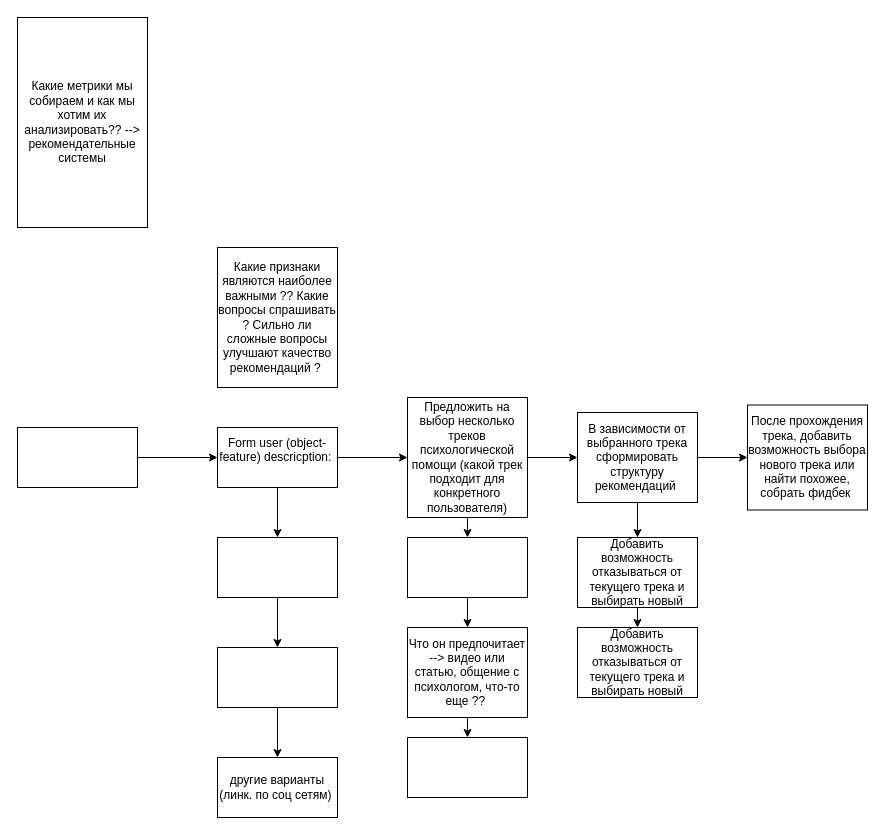
Some shapes in this 885 by 835 pixel diagram are drawn without their labels. Here are the shapes that lost their labels. From the top down, the centre of each, then its label:
(77,457): Register (linked to user id) --> write user stories
(277,567): Анкета в google docs
(467,567): Сколько минут в день пользователь хочет тратить на практику
(277,677): Анкета в ТГ (список вопросов), пройти анкетирование
(467,767): Что он предпочитает --> видео или статью
